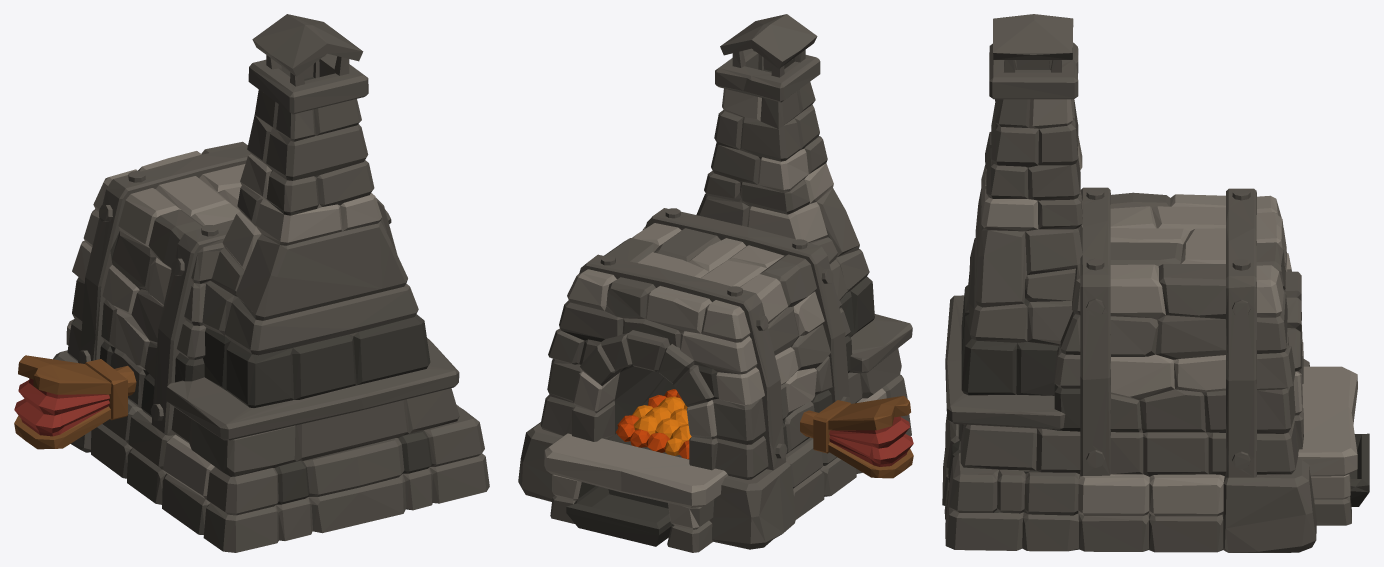
Rendered from StoneSmeltingFurnace.fbx.
3 renders of one model, left to right at view 1: azimuth 30°, elevation 25°; view 2: azimuth 150°, elevation 25°; view 3: azimuth 270°, elevation 25°, orthographic. The views are drawn at different scales.
Visible parts, largest first — view 1: StoneSmeltingFurnace; view 2: StoneSmeltingFurnace; view 3: StoneSmeltingFurnace.
Part boxes in pixels (x1,y1,x2,y2): StoneSmeltingFurnace: [14, 14, 489, 552]; StoneSmeltingFurnace: [518, 14, 913, 552]; StoneSmeltingFurnace: [942, 14, 1369, 552].
Bounding box in the file's own units: 3.21 × 3.23 × 3.88.
